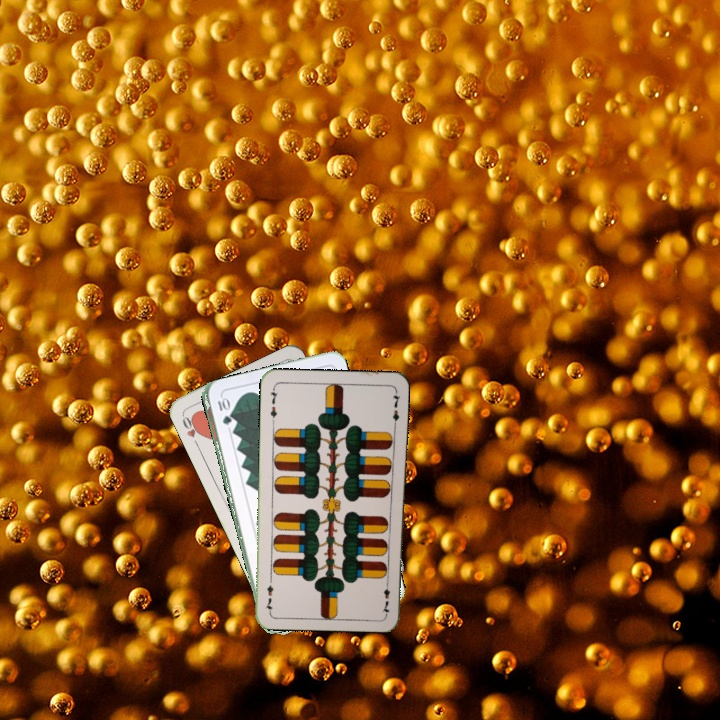E7: (266, 384, 280, 424), (379, 575, 392, 616)
G10: (214, 393, 232, 428)
HO: (178, 411, 204, 449)
